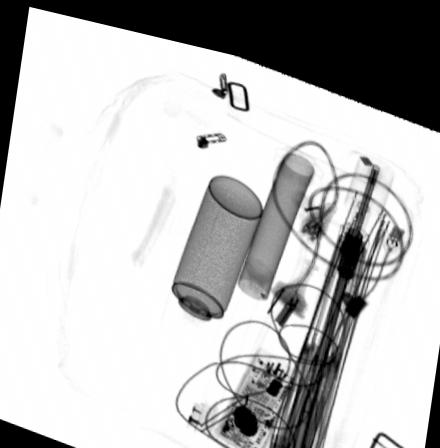Sprayer: (158, 163, 265, 344)
